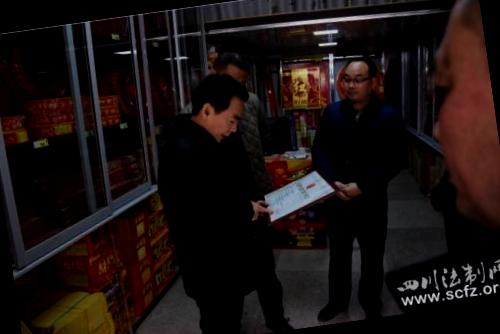no_helmet: (409, 0, 500, 232), (184, 65, 252, 145), (334, 52, 380, 108), (218, 47, 254, 96)
